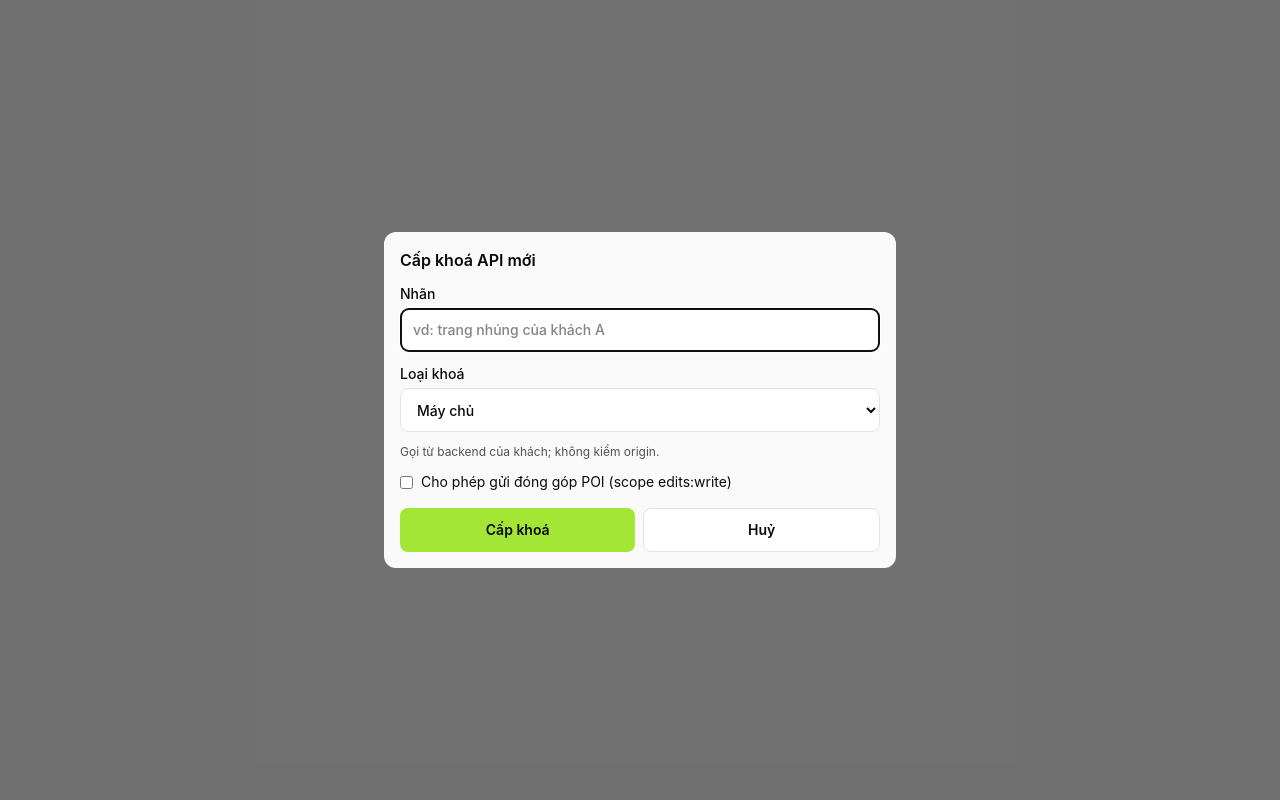
Test: NewKeyDialog › lỗi từ máy chủ hiện nguyên mã lỗi, không nuốt
In the field labelled "Nhãn": (640, 330) [400,308,880,352], type "x"
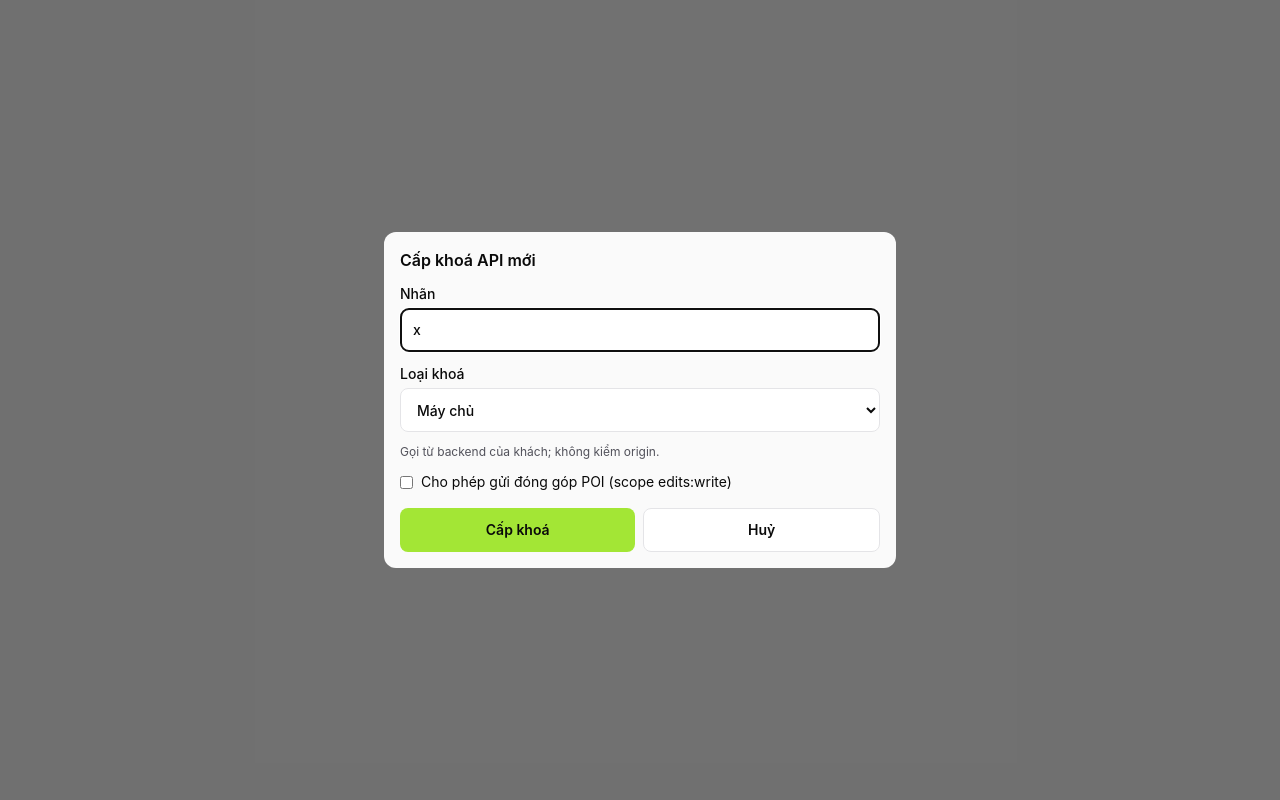
Click the button "Cấp khoá": (518, 530) [400,508,636,552]
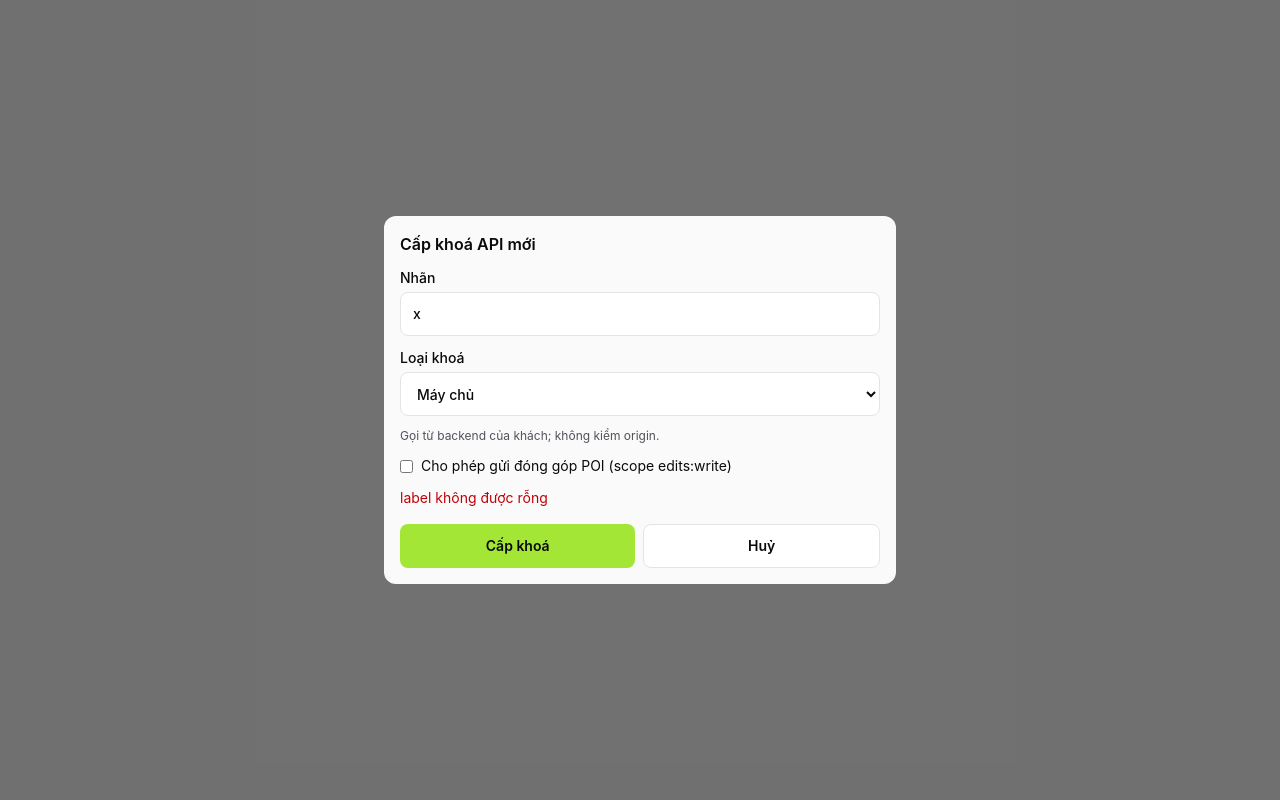
expect the text "label không được rỗng" is shown: met, box [400,489,548,506]
